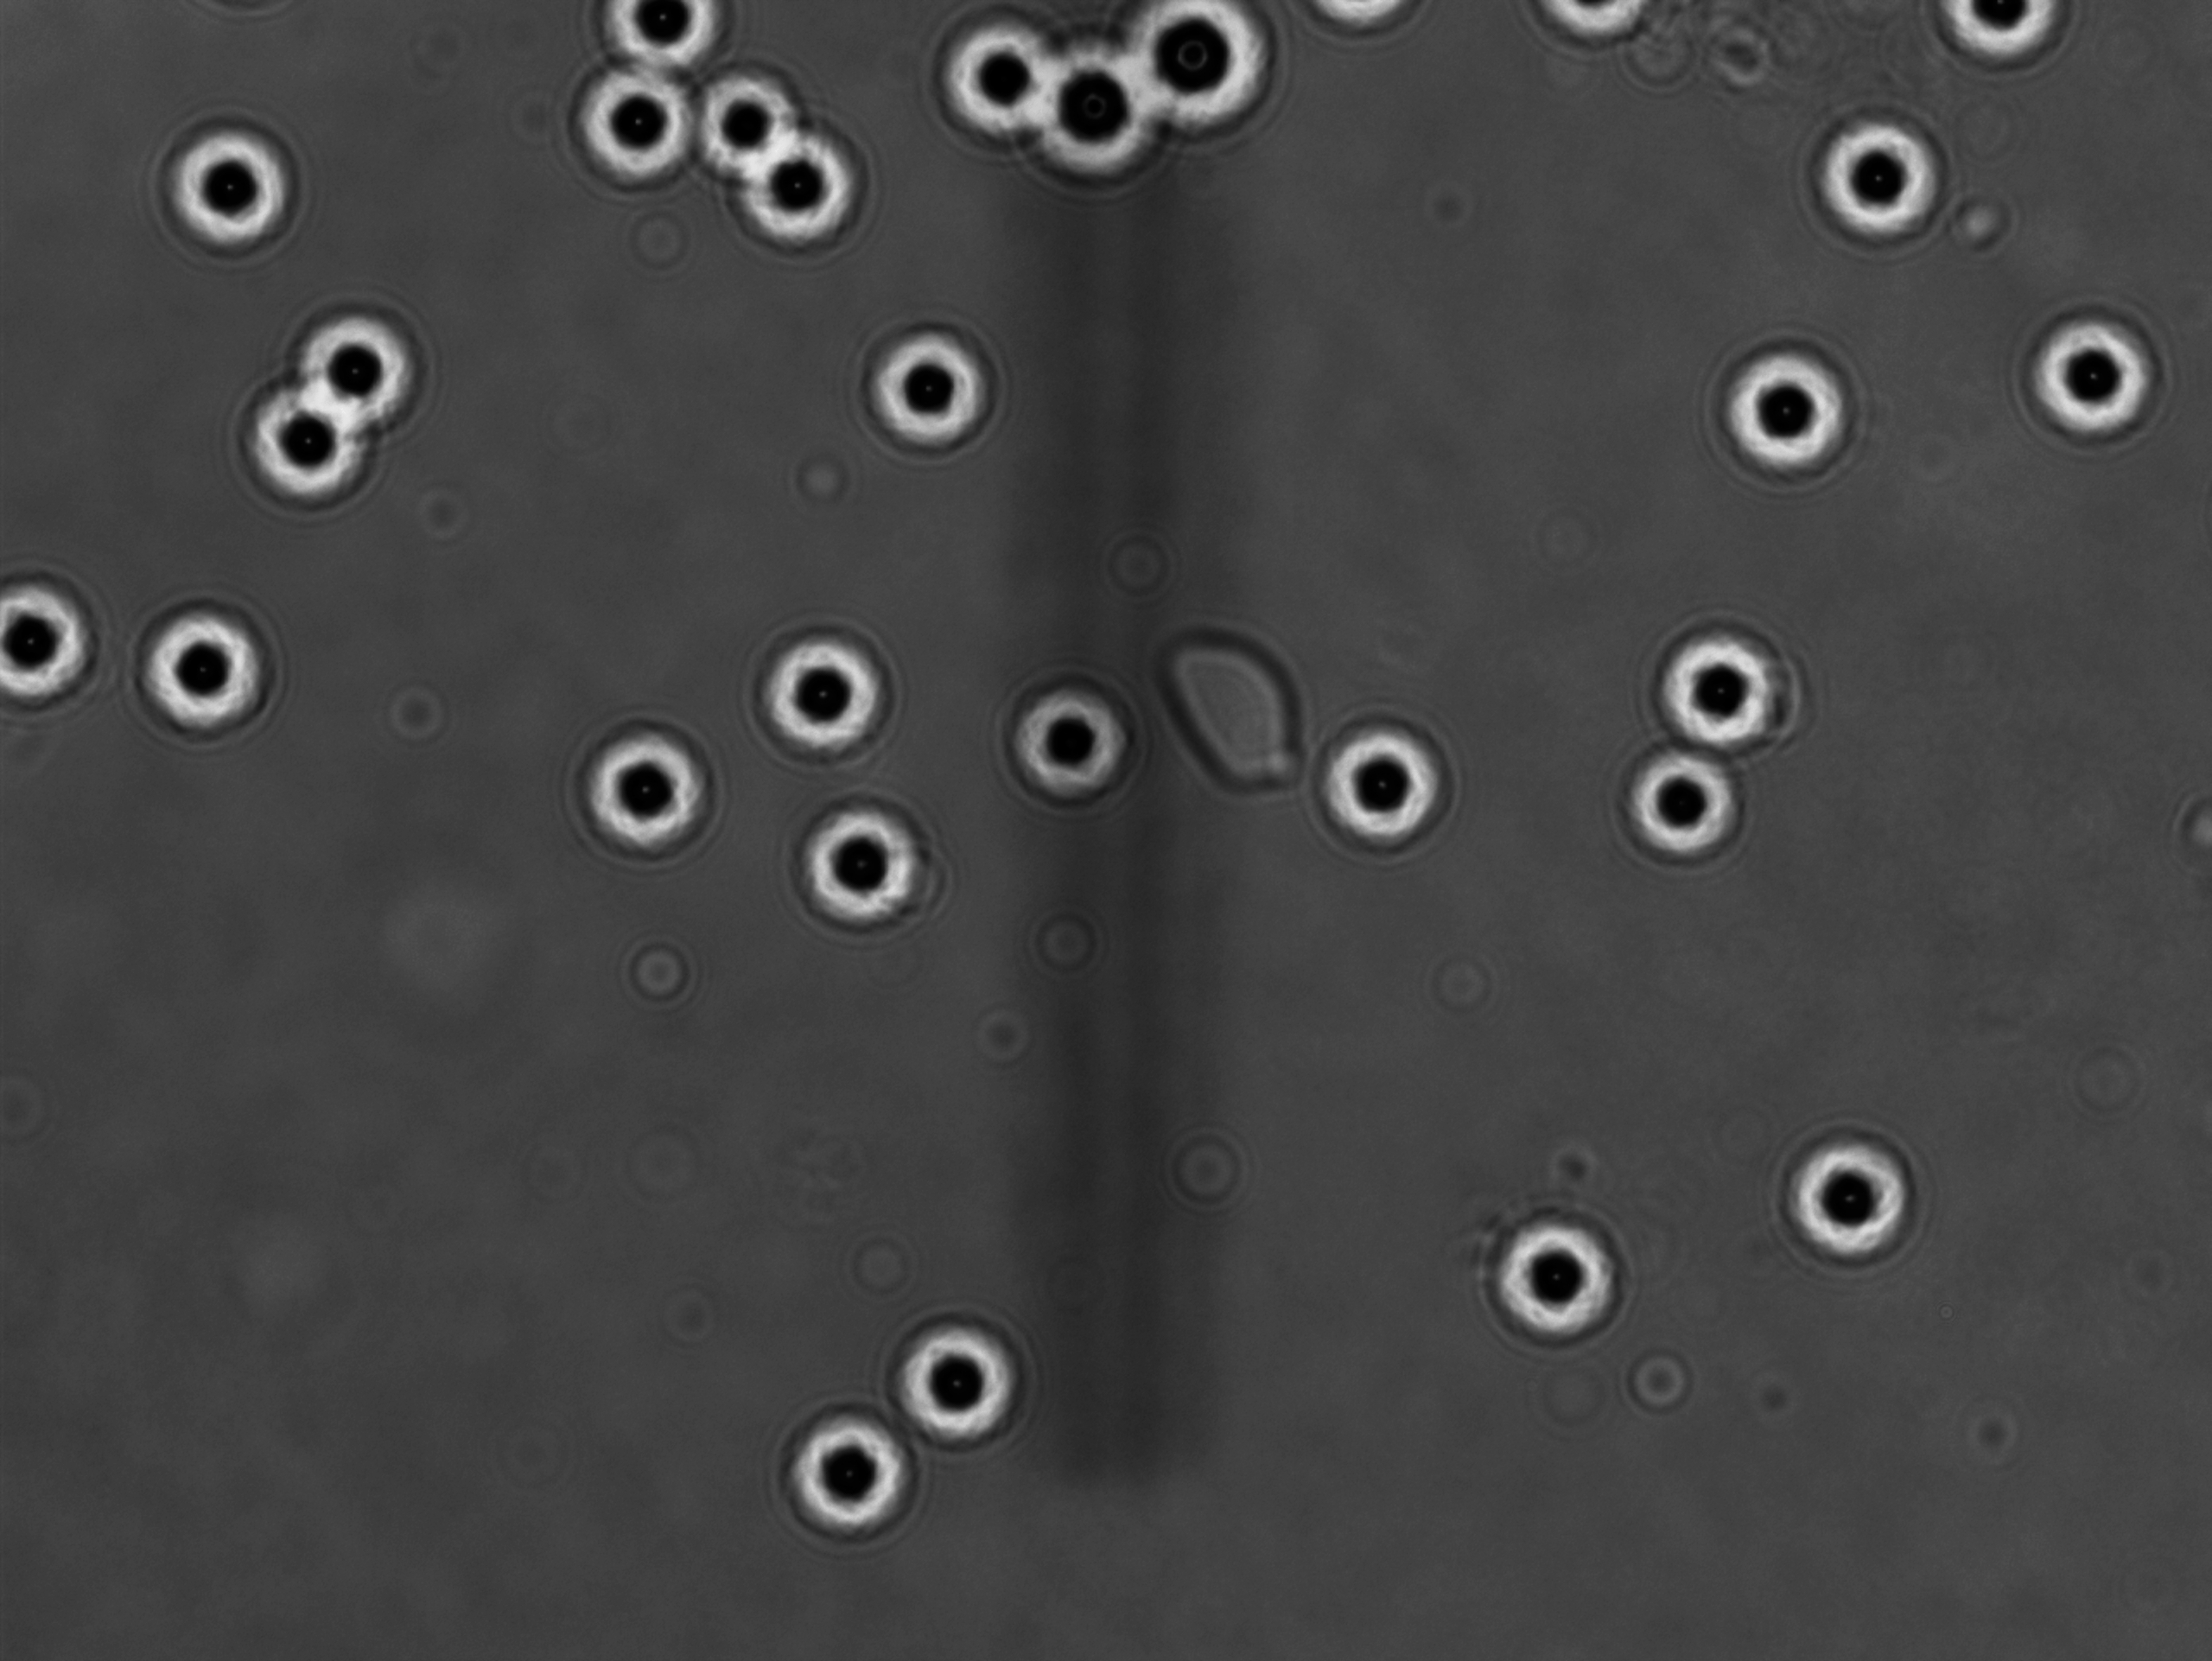depth:-20: (1446, 1195, 1652, 1364), (1286, 686, 1465, 871), (727, 588, 897, 775), (550, 710, 733, 881), (977, 660, 1148, 829), (2006, 300, 2177, 469), (117, 584, 281, 759), (872, 1298, 1036, 1471), (1778, 1117, 1942, 1288), (1783, 96, 1954, 260), (1706, 333, 1877, 494), (152, 117, 317, 277), (844, 309, 1010, 468), (771, 1384, 925, 1553), (1638, 611, 1792, 780), (782, 796, 942, 953), (291, 288, 443, 445), (216, 379, 373, 529), (1610, 736, 1760, 892), (691, 56, 839, 206), (556, 52, 703, 204), (724, 113, 876, 256), (1010, 56, 1155, 201), (926, 16, 1069, 152)
